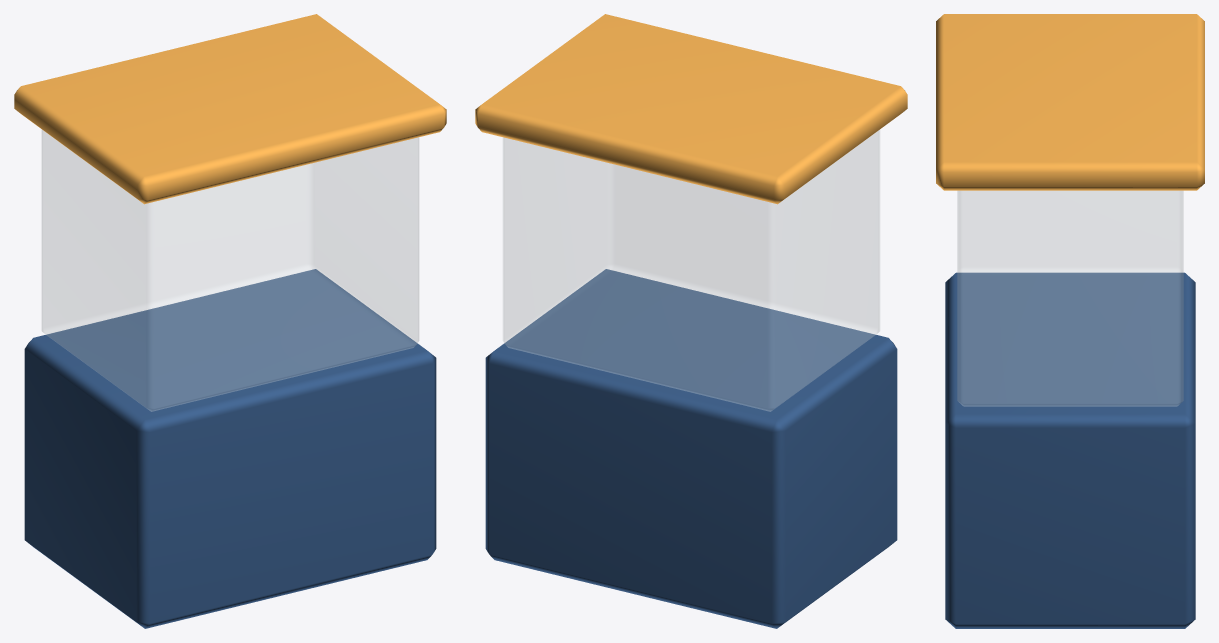
The model's file is DisplayCase.fbx.
The picture shows the model from 3 angles, left to right: view 1: azimuth 30°, elevation 25°; view 2: azimuth 150°, elevation 25°; view 3: azimuth 270°, elevation 25°; orthographic projection. The views are drawn at different scales.
Parts seen in each view (by area): view 1: premium plinth, premium case glass, premium case cap; view 2: premium plinth, premium case glass, premium case cap; view 3: premium plinth, premium case glass, premium case cap.
Part boxes in pixels (bbox=[...]): premium plinth: bbox=[24, 269, 436, 628]; premium case glass: bbox=[42, 130, 418, 411]; premium case cap: bbox=[14, 14, 446, 204]; premium plinth: bbox=[485, 269, 897, 628]; premium case glass: bbox=[503, 130, 879, 411]; premium case cap: bbox=[475, 14, 907, 204]; premium plinth: bbox=[945, 272, 1195, 628]; premium case glass: bbox=[957, 191, 1183, 406]; premium case cap: bbox=[936, 14, 1204, 190].
Bounding box in the file's own units: 139 × 197 × 102.
